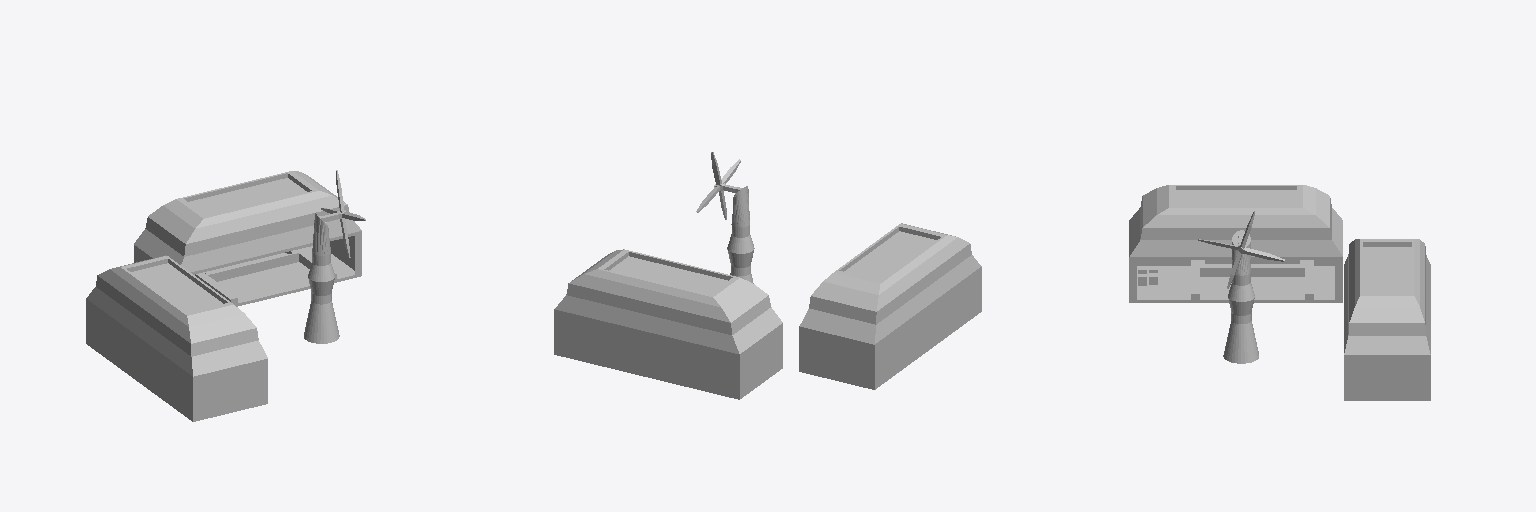
File: farm.obj
The picture shows the model from 3 angles: view 1: azimuth 30°, elevation 25°; view 2: azimuth 150°, elevation 25°; view 3: azimuth 270°, elevation 25°; orthographic projection.
Parts seen in each view (by area): view 1: Cube.001_Cube, Cube, Cylinder; view 2: Cube, Cube.001_Cube, Cylinder; view 3: Cube.001_Cube, Cube, Cylinder.
Boxes of the visible parts, x1=… form: Cube.001_Cube: x1=86, y1=255, x2=267, y2=421; Cube: x1=134, y1=171, x2=361, y2=306; Cylinder: x1=304, y1=170, x2=365, y2=343; Cube: x1=554, y1=249, x2=782, y2=399; Cube.001_Cube: x1=799, y1=223, x2=981, y2=389; Cylinder: x1=696, y1=152, x2=754, y2=283; Cube.001_Cube: x1=1129, y1=185, x2=1342, y2=302; Cube: x1=1344, y1=239, x2=1430, y2=400; Cylinder: x1=1198, y1=211, x2=1284, y2=363.
Bounding box in the file's own units: 70.81 × 38.28 × 66.85.